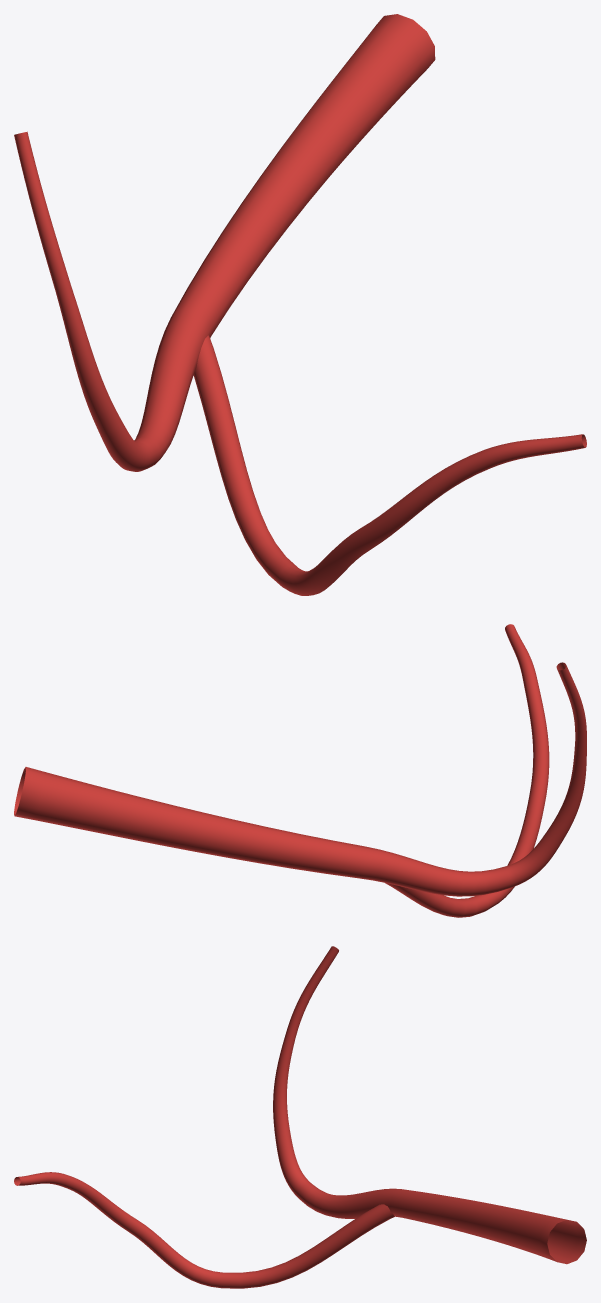
3 renders of one model, top to bottom at view 1: azimuth 30°, elevation 25°; view 2: azimuth 150°, elevation 25°; view 3: azimuth 270°, elevation 25°, orthographic. The views are drawn at different scales.
Visible parts, largest first — view 1: 右侧旋肱前动脉; view 2: 右侧旋肱前动脉; view 3: 右侧旋肱前动脉.
Boxes of the visible parts, bbox=[...] form: 右侧旋肱前动脉: bbox=[14, 14, 586, 595]; 右侧旋肱前动脉: bbox=[14, 624, 586, 917]; 右侧旋肱前动脉: bbox=[14, 946, 586, 1288].
Size of the model in its own units: 0.0714 by 0.0509 by 0.0934.
